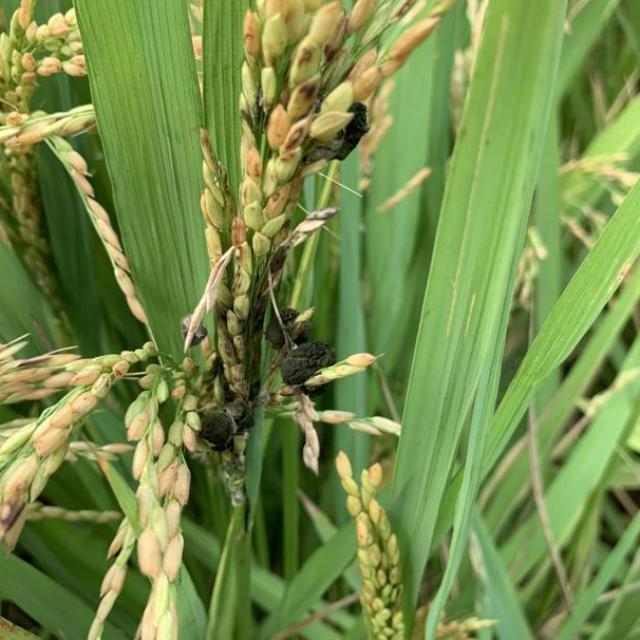Leaf_Scald: (265, 302, 339, 386), (314, 96, 371, 162), (195, 397, 259, 452)
